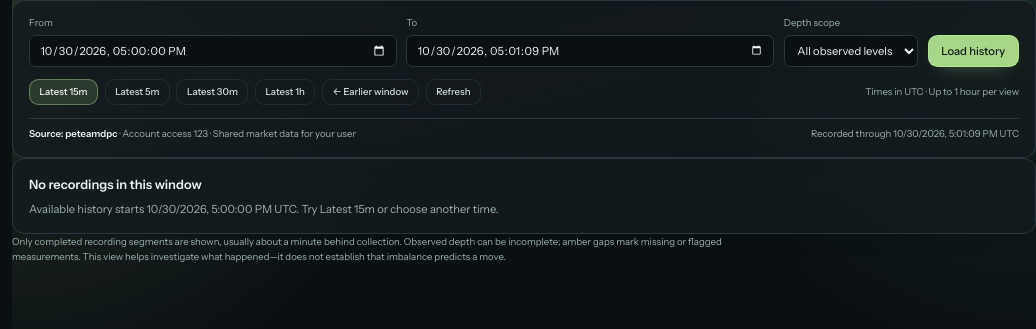
Scenario: rejects oversized windows before requesting and makes missing history explicit
Check: the heading "No recordings in this window" is shown, box 29,177 -> 202,192
Replace the text in the field named "History start" with "2026-10-30T08:00:00" at (213,51), box 29,35 -> 397,67
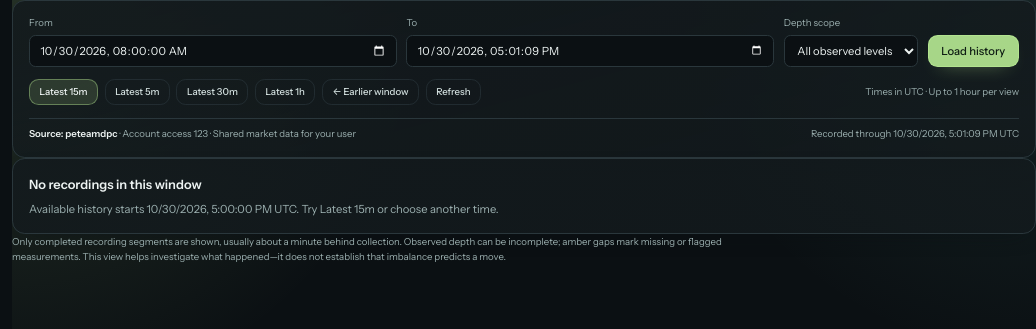
Replace the text in the field named "History end" with "2026-10-30T10:00:00" at (590,51), box 406,35 -> 774,67
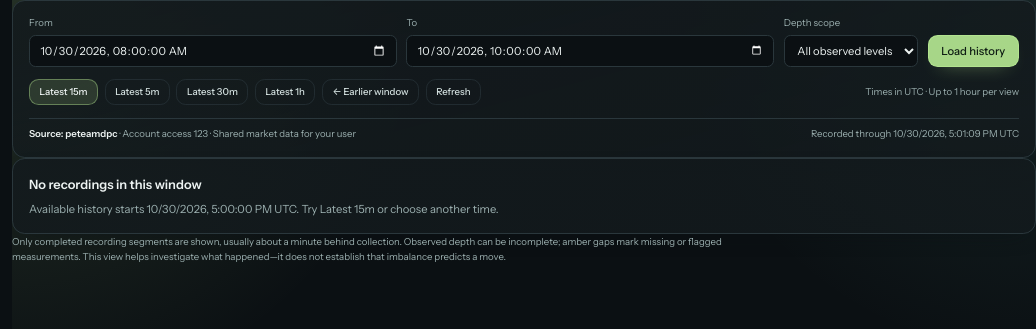
Click the button "Load history".
click(973, 51)  # box 928,35 -> 1019,67
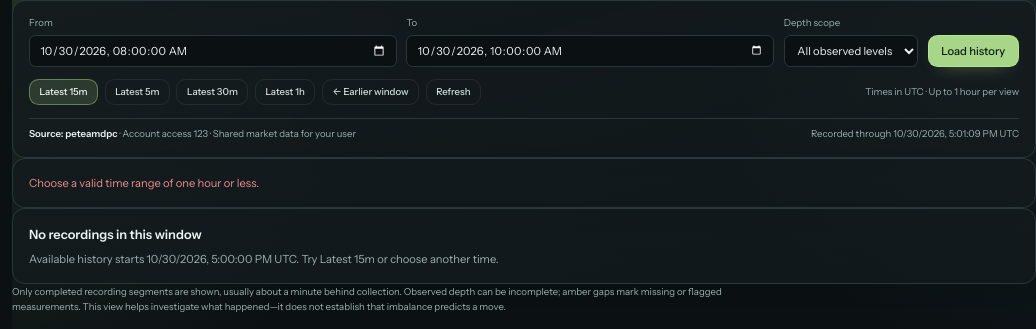
Check: the message reads "Choose a valid time range of one hour or less.", box 29,176 -> 259,190
